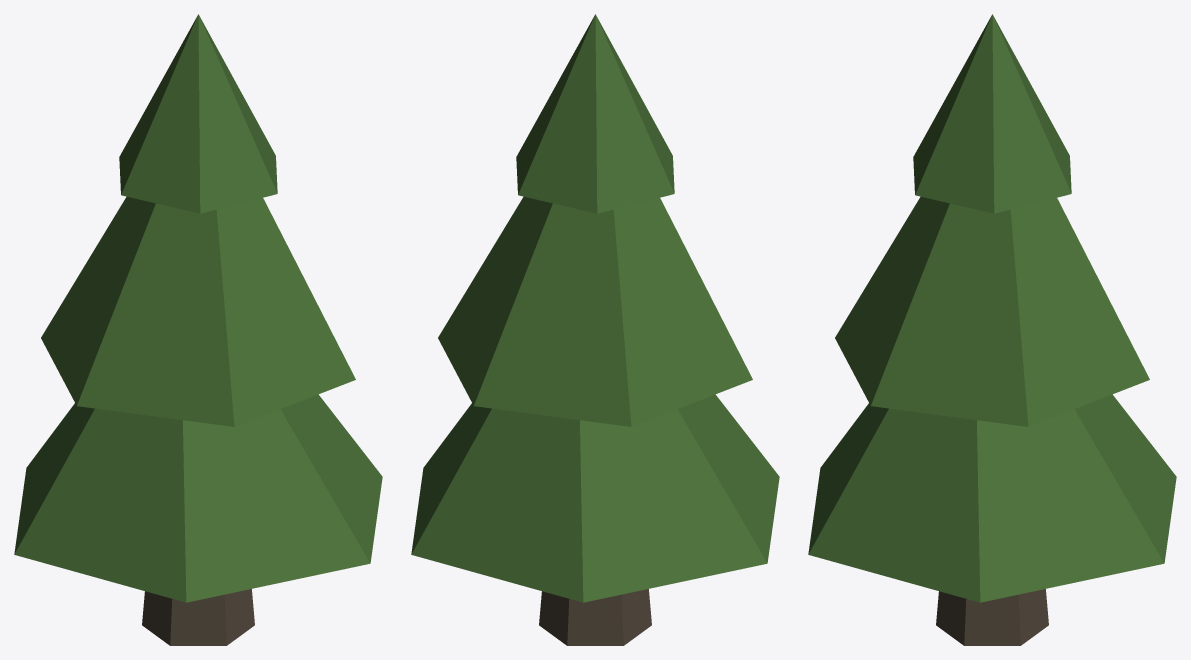
File: tree01.fbx
3 views of the same model, side by side, from view 1: azimuth 30°, elevation 25°; view 2: azimuth 150°, elevation 25°; view 3: azimuth 270°, elevation 25° (orthographic).
Visible parts, largest first — view 1: Cylinder; view 2: Cylinder; view 3: Cylinder.
Part boxes in pixels (x1,y1,x2,y2): Cylinder: (14,14,382,645); Cylinder: (411,14,779,645); Cylinder: (808,14,1176,645).
Bounding box in the file's own units: 455 × 746 × 407.
